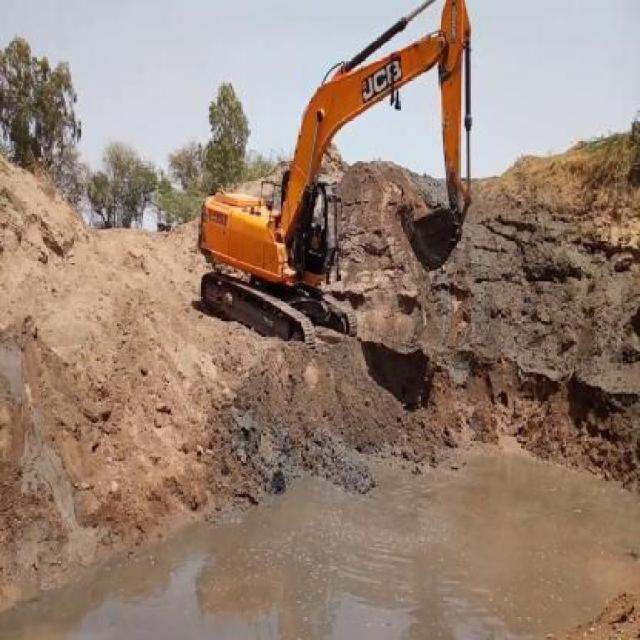excavator: (197, 0, 474, 355)
